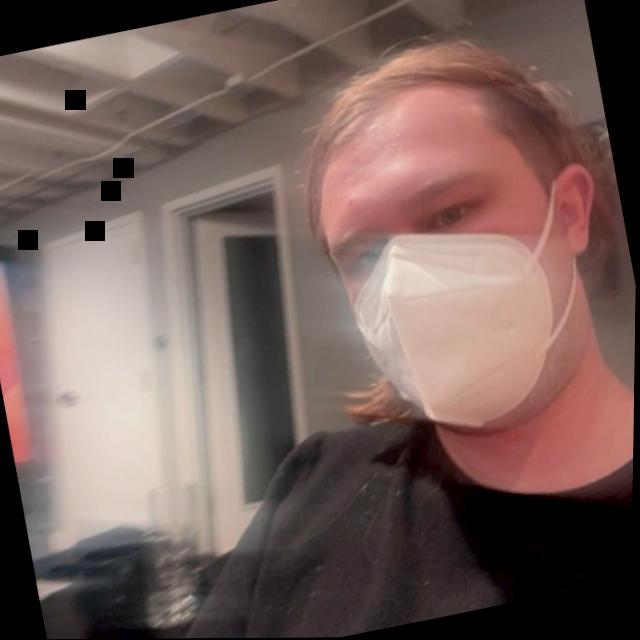Mask: (265, 0, 640, 529)
